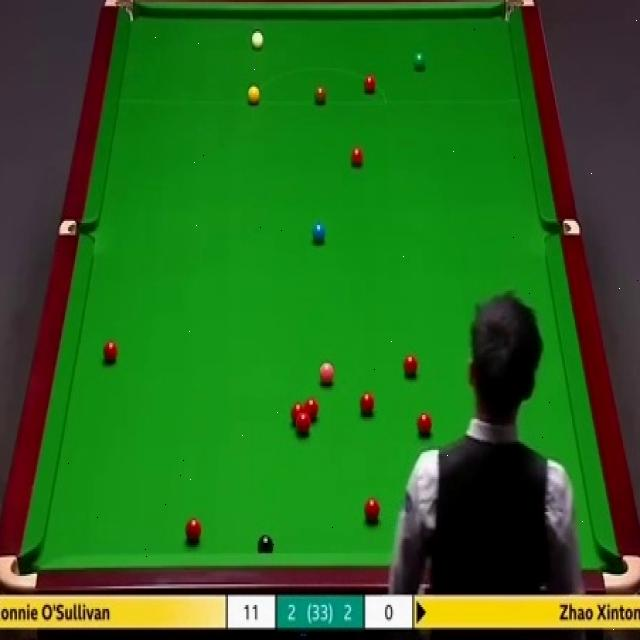black-ball: (256, 532, 273, 552)
blue-ball: (311, 223, 327, 244)
brown-ball: (314, 82, 326, 103)
green-ball: (410, 50, 426, 72)
pink-ball: (318, 362, 336, 388)
red-ball: (417, 410, 433, 440), (363, 497, 380, 523), (102, 341, 118, 368), (360, 390, 376, 416), (184, 519, 201, 543), (290, 402, 305, 428), (349, 146, 365, 168), (304, 398, 318, 422), (402, 355, 418, 376), (296, 416, 312, 436), (362, 73, 377, 94)
white-ball: (250, 30, 264, 50)
yellow-ball: (246, 86, 261, 104)
